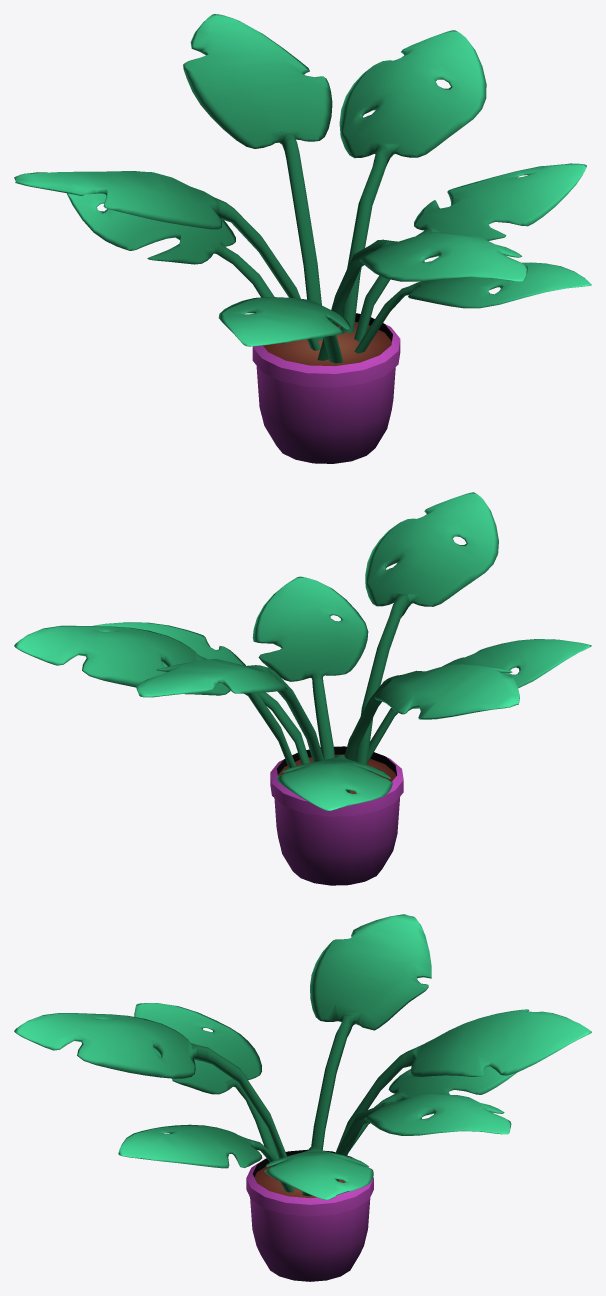
Rendered from Plant 8.fbx.
3 views of the same model, one above another, from view 1: azimuth 30°, elevation 25°; view 2: azimuth 150°, elevation 25°; view 3: azimuth 270°, elevation 25° (orthographic). The views are drawn at different scales.
Parts seen in each view (by area): view 1: Plant 8, Pot 8; view 2: Plant 8, Pot 8; view 3: Plant 8, Pot 8.
Boxes of the visible parts, x1,y1,x2,y2 form: Plant 8: [14, 14, 591, 363]; Pot 8: [252, 313, 400, 463]; Plant 8: [14, 492, 591, 810]; Pot 8: [270, 746, 403, 885]; Plant 8: [14, 914, 591, 1200]; Pot 8: [246, 1149, 373, 1281].
Bounding box in the file's own units: 458 × 250 × 510.
